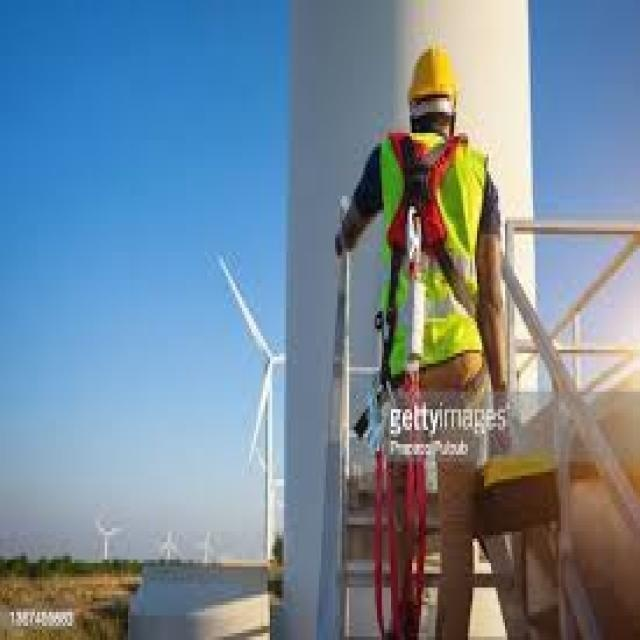Arnes_seguridad: (384, 122, 481, 465)
